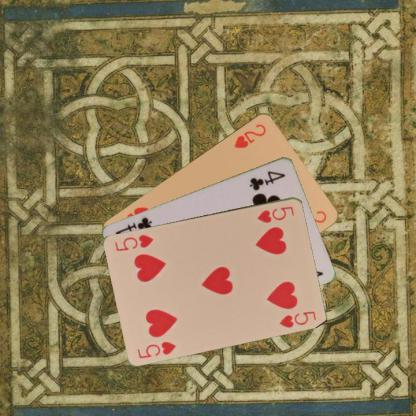2h: (232, 121, 268, 150)
4c: (247, 167, 287, 192)
5h: (134, 338, 178, 360), (255, 203, 296, 224)
